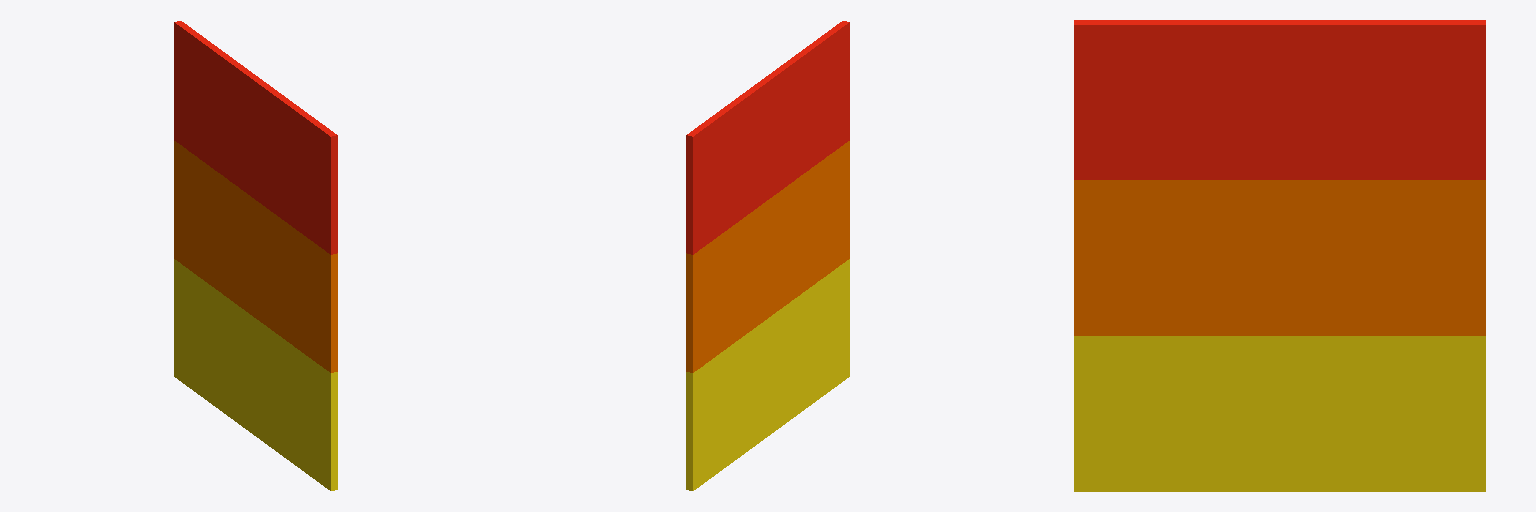
URDF robot description (board_toy):
<?xml version="1.0"?>
<!-- ToyBoard: 暖色系ストライプ (board.urdf と同形状) -->
<robot name="board_toy">
  <material name="red">
    <color rgba="1.0 0.2 0.1 1.0"/>
  </material>
  <material name="orange">
    <color rgba="1.0 0.5 0.0 1.0"/>
  </material>
  <material name="yellow">
    <color rgba="1.0 0.9 0.1 1.0"/>
  </material>

  <link name="base_link">
    <inertial>
      <mass value="1.0"/>
      <origin xyz="0 0 0.5" rpy="0 0 0"/>
      <inertia ixx="2.17" ixy="0" ixz="0" iyy="0.083" iyz="0" izz="2.08"/>
    </inertial>

    <visual>
      <origin xyz="0 0 0.833" rpy="0 0 0"/>
      <geometry>
        <box size="0.02 0.8 0.333"/>
      </geometry>
      <material name="red"/>
    </visual>

    <visual>
      <origin xyz="0 0 0.5" rpy="0 0 0"/>
      <geometry>
        <box size="0.02 0.8 0.334"/>
      </geometry>
      <material name="orange"/>
    </visual>

    <visual>
      <origin xyz="0 0 0.167" rpy="0 0 0"/>
      <geometry>
        <box size="0.02 0.8 0.333"/>
      </geometry>
      <material name="yellow"/>
    </visual>

    <collision>
      <origin xyz="0 0 0.5" rpy="0 0 0"/>
      <geometry>
        <box size="0.02 0.8 1.0"/>
      </geometry>
    </collision>
  </link>
</robot>

--- Render facts (derived) ---
3 views of the same robot in one strip: view 1: azimuth 30°, elevation 25°; view 2: azimuth 150°, elevation 25°; view 3: azimuth 270°, elevation 25° (orthographic).
Model board_toy with 1 links and 0 joints (none), rooted at base_link, posed all joints at 0.
Links seen in each view (by area): view 1: base_link; view 2: base_link; view 3: base_link.
Link boxes in pixels (box(x1,y1,x2,y2)): base_link: box(174, 21, 337, 490); base_link: box(686, 21, 849, 490); base_link: box(1074, 20, 1485, 491).
Size in the robot's own frame: 0.02 by 0.8 by 0.999 metres.
Geometry: primitives only (box / cylinder / sphere), no mesh files.
